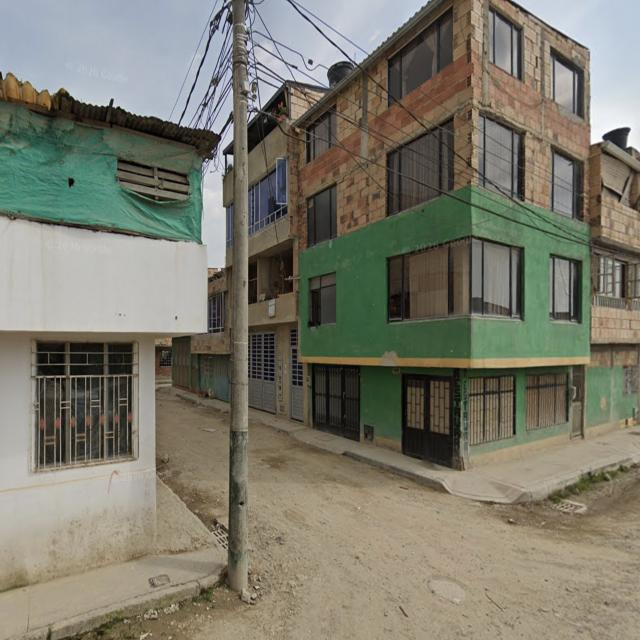Casa: (286, 0, 640, 468), (0, 73, 217, 590), (248, 81, 325, 422)
Poste: (228, 0, 249, 590)
